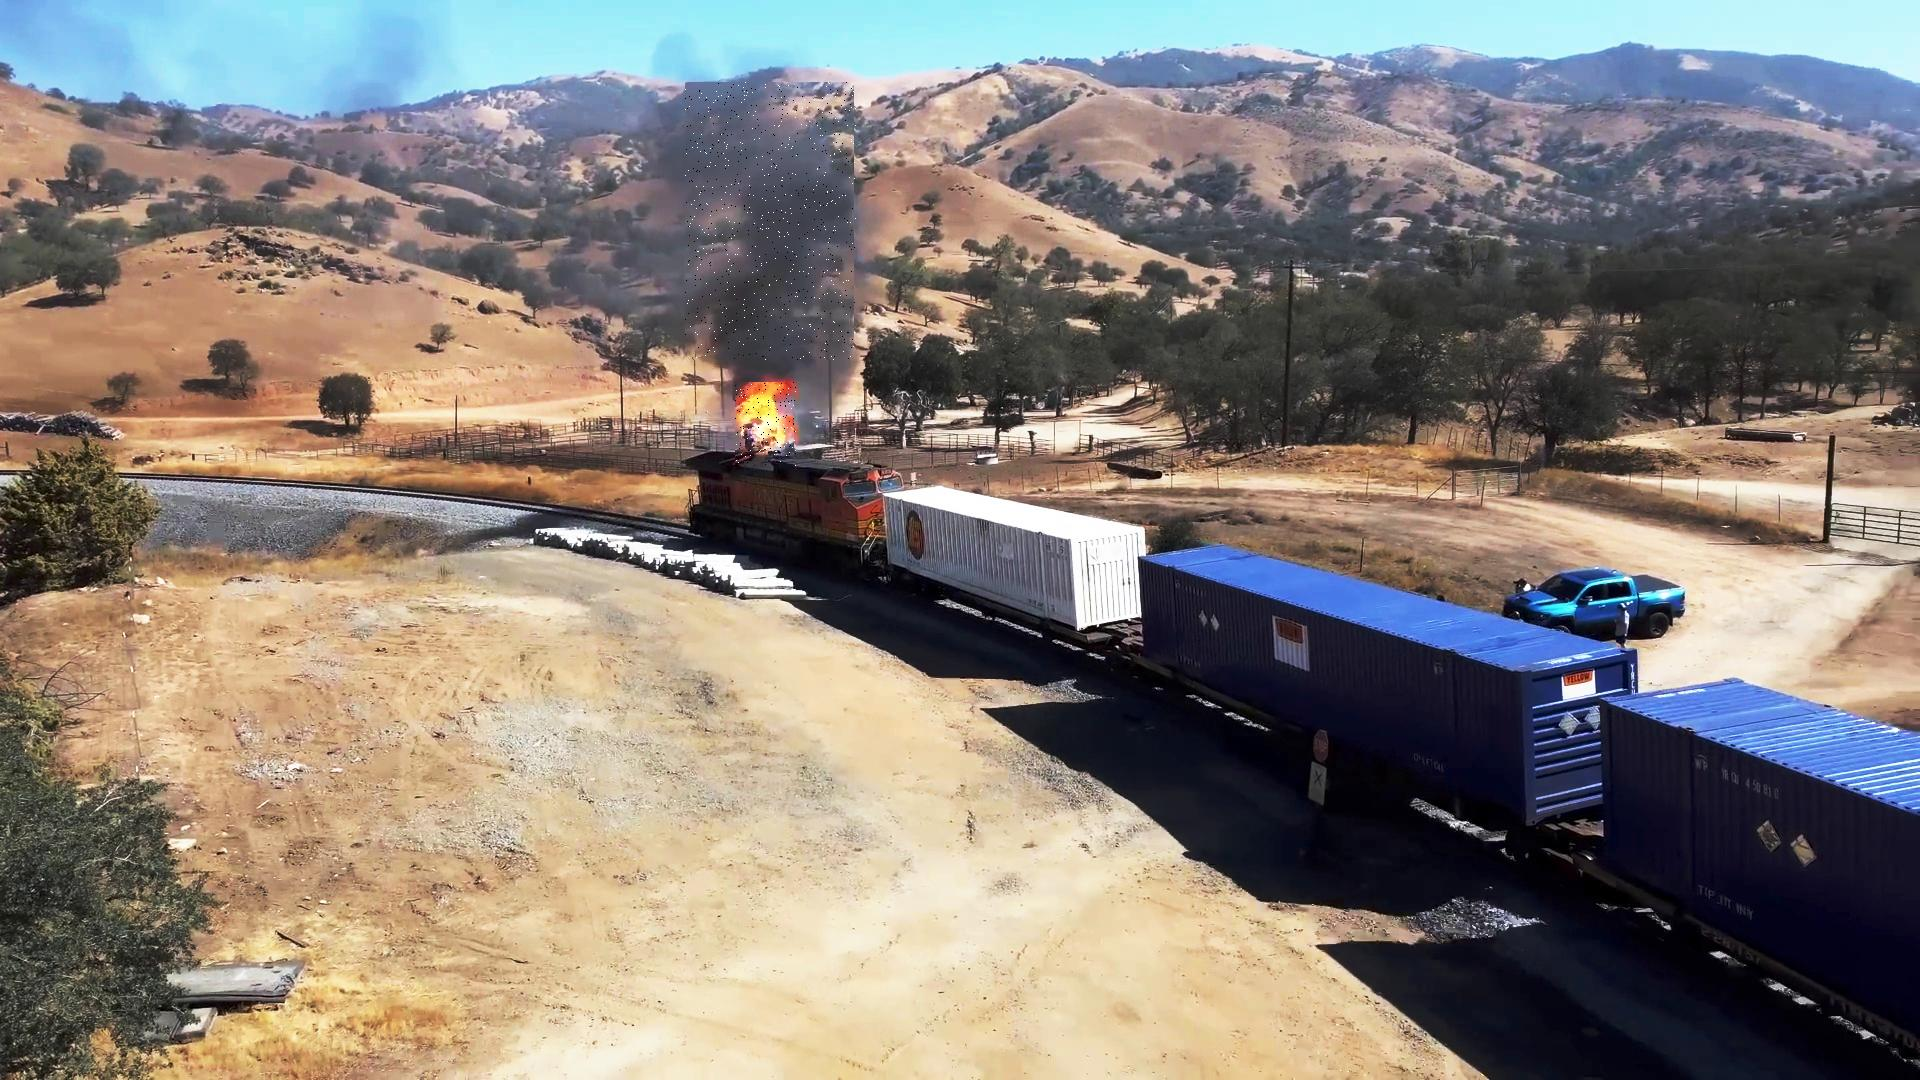fire: (736, 383, 797, 467)
smoke: (686, 83, 857, 361)
